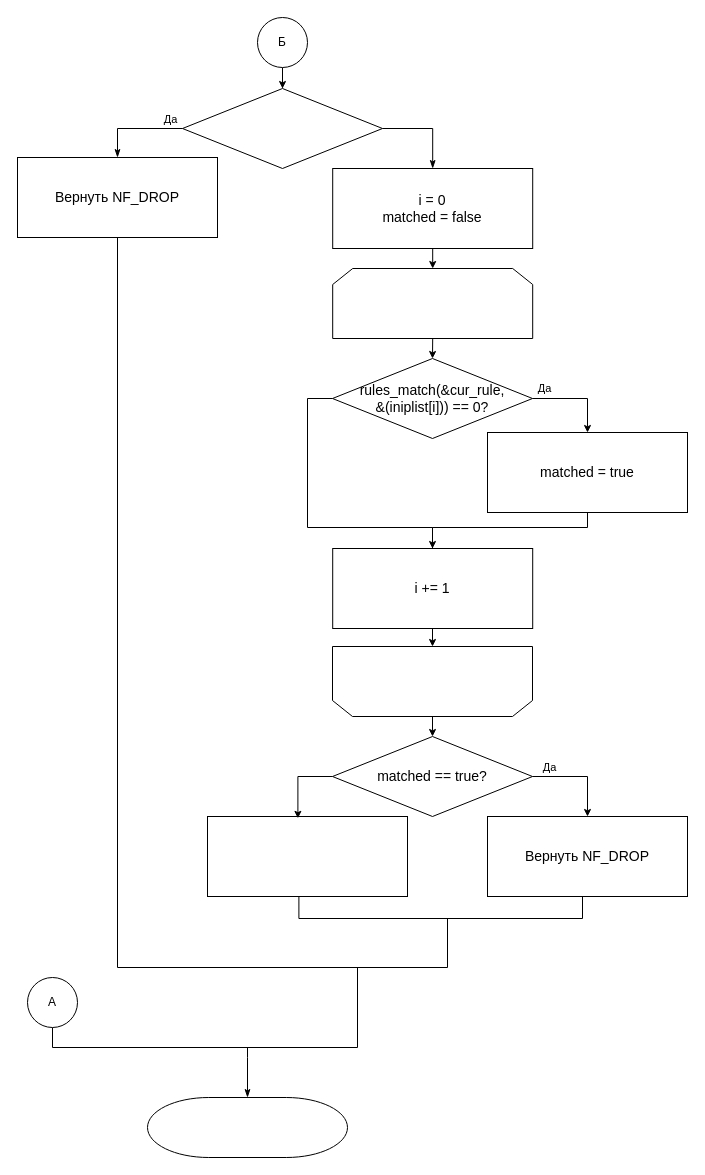
Image size: 705x1175. Some labels were removed from this diagram. The centre of each missing label's shape, as x and y in pixels:
"flag_blockspoof && (cur_rule.src_ip == localhost)?" goes at point 282,128.
"Вернуть NF_ACCEPT" goes at point 307,856.
"Конец" goes at point 247,1127.
"Конец цикла пока i < in_index && matched == false" goes at point 432,681.
"Цикл пока i < in_index && matched == false" goes at point 432,303.
